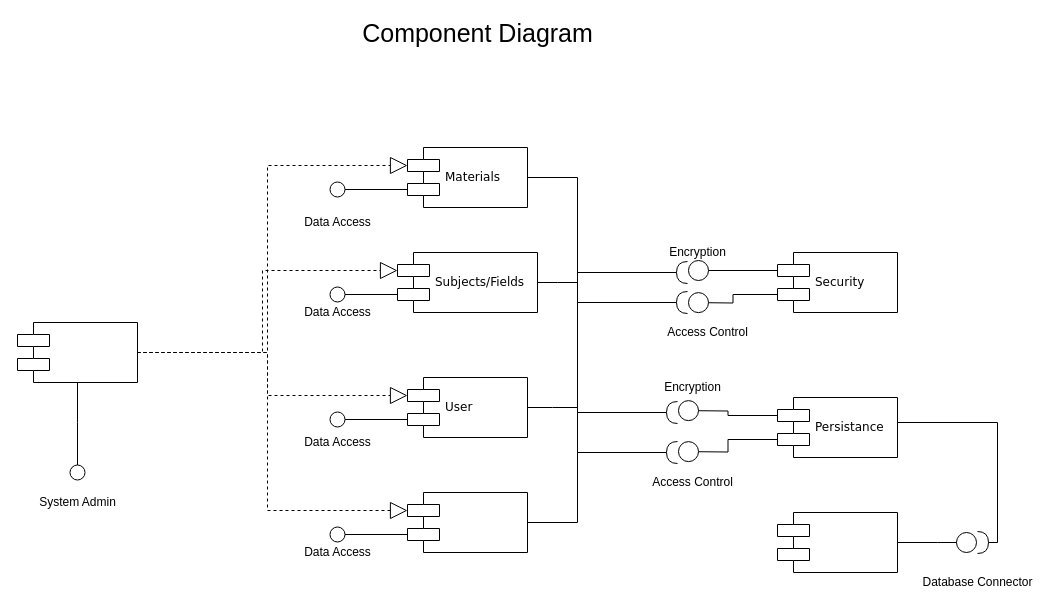
Some shapes in this 1060 by 609 pixel diagram are drawn without their labels. The centre of each missing label's shape, as x and y in pixels:
"Database" goes at (837,542).
"Requests" goes at (467,522).
"UStudy" goes at (77,352).
